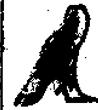Owl: (12, 4, 94, 108)
